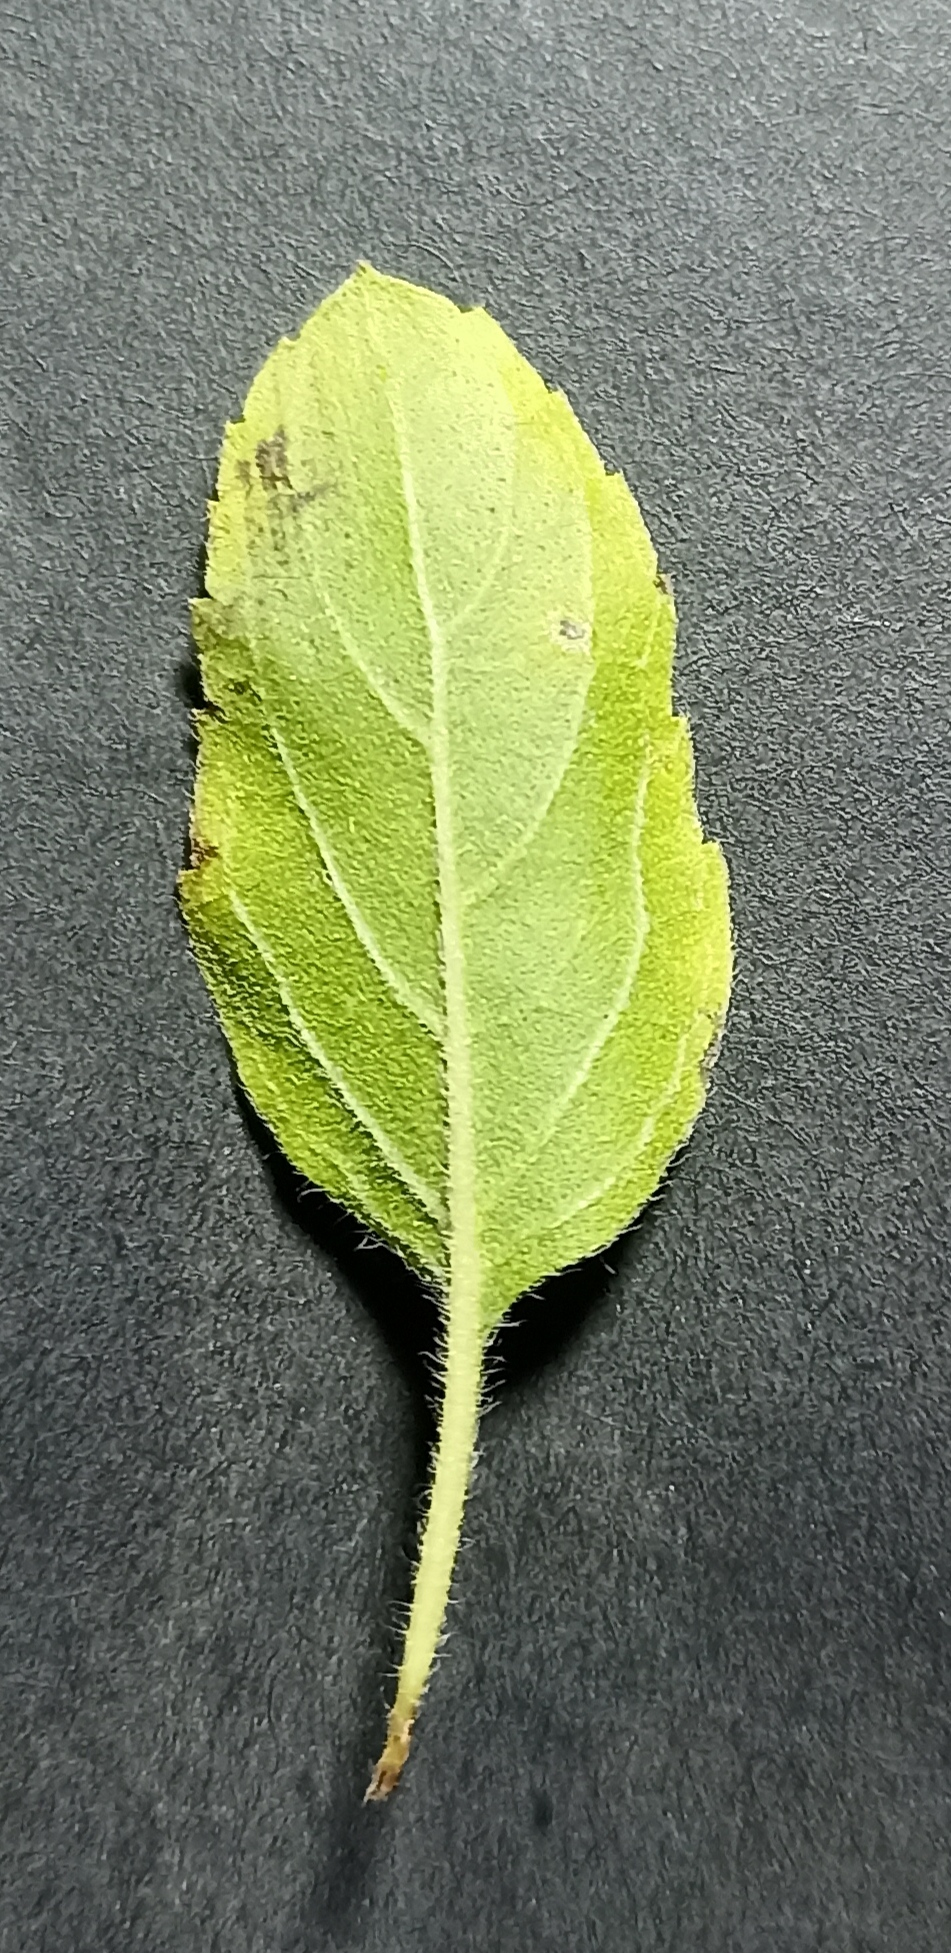Unhealthy: (154, 224, 746, 1334)
